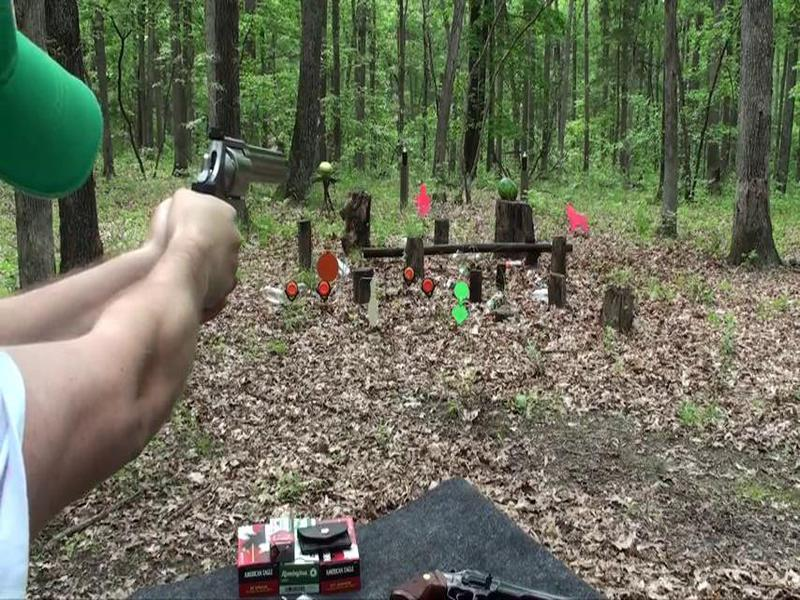Revolver: (148, 131, 301, 232)
